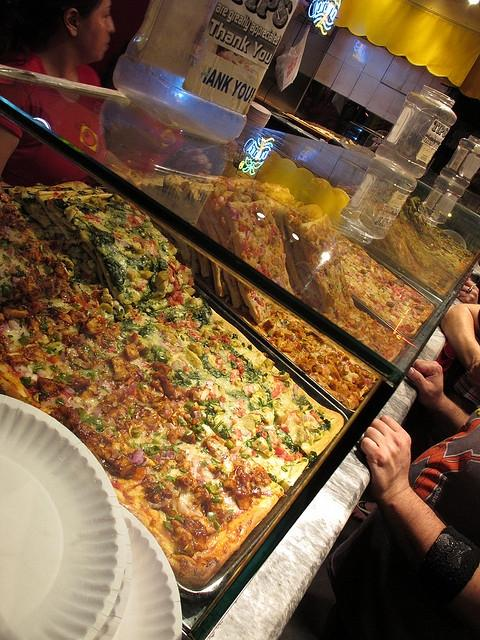tomato: (228, 351, 244, 379), (27, 300, 48, 314), (132, 236, 156, 248), (82, 128, 96, 146), (82, 212, 104, 222), (114, 233, 130, 246), (126, 214, 140, 228), (310, 410, 324, 424), (210, 336, 230, 344), (270, 384, 282, 397), (173, 270, 180, 292), (170, 290, 182, 302), (273, 445, 285, 455), (366, 296, 378, 306), (255, 422, 264, 435), (236, 407, 246, 418), (278, 380, 287, 391), (136, 282, 145, 292), (215, 198, 224, 208), (253, 246, 260, 258), (243, 239, 250, 251), (98, 316, 107, 325), (238, 224, 247, 232), (282, 426, 291, 434), (47, 356, 55, 364), (231, 434, 240, 441), (131, 332, 138, 340), (256, 300, 264, 307), (130, 203, 137, 210), (189, 277, 194, 286), (297, 343, 302, 352), (271, 227, 277, 234), (180, 264, 186, 271), (258, 271, 266, 276), (360, 326, 366, 332), (371, 320, 377, 326), (347, 361, 354, 366), (349, 284, 354, 290), (329, 283, 333, 290), (163, 323, 172, 326), (296, 330, 302, 334), (335, 312, 339, 318), (57, 194, 63, 198), (35, 249, 39, 253), (348, 322, 352, 325), (356, 274, 358, 278)
